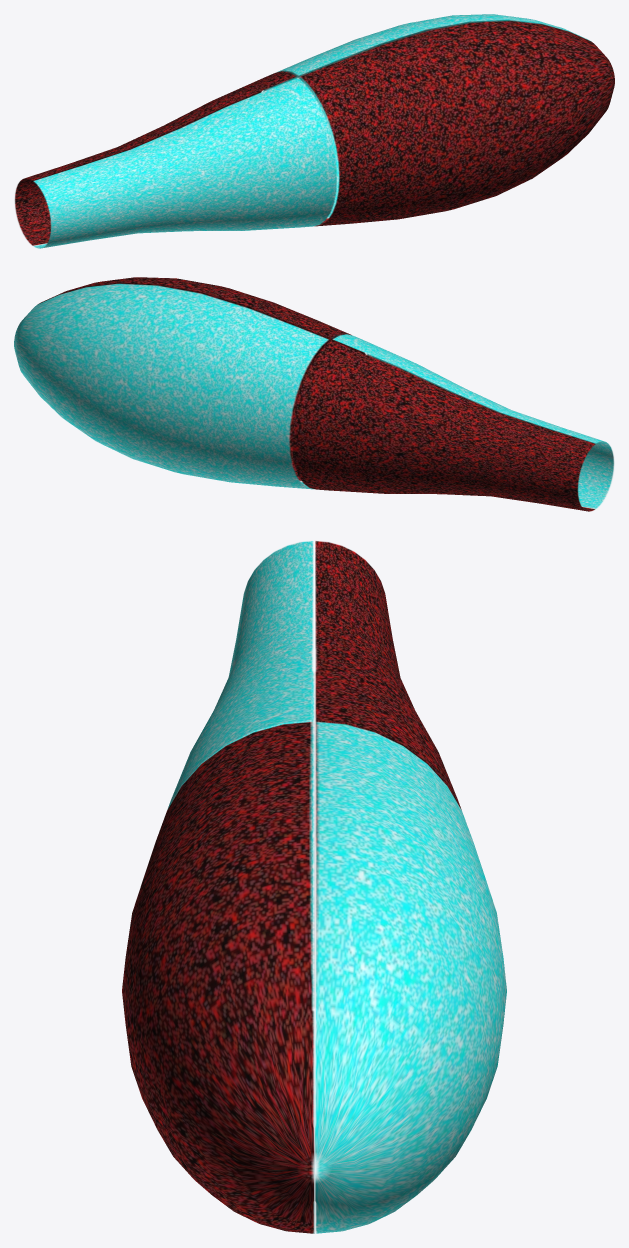
3 renders of one model, top to bottom at view 1: azimuth 30°, elevation 25°; view 2: azimuth 150°, elevation 25°; view 3: azimuth 270°, elevation 25°, orthographic. The views are drawn at different scales.
Parts seen in each view (by area): view 1: SM_VFX_Magic_Fire_Projectile_LOD0; view 2: SM_VFX_Magic_Fire_Projectile_LOD0; view 3: SM_VFX_Magic_Fire_Projectile_LOD0.
Boxes of the visible parts, <box> form: SM_VFX_Magic_Fire_Projectile_LOD0: <box>14,14,614,248</box>; SM_VFX_Magic_Fire_Projectile_LOD0: <box>14,277,614,511</box>; SM_VFX_Magic_Fire_Projectile_LOD0: <box>122,541,506,1233</box>.
Size of the model in its own units: 2.69 by 0.774 by 0.774.
Materials: 1 (1 with a texture image).
